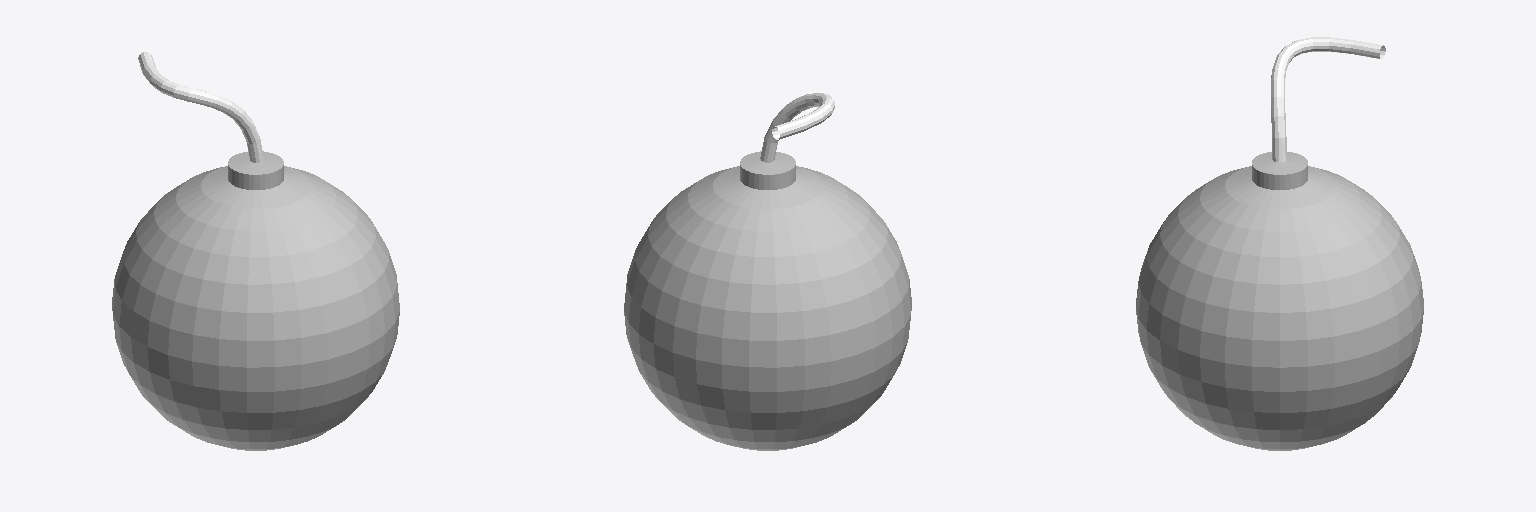
3 views of the same model, side by side, from view 1: azimuth 30°, elevation 25°; view 2: azimuth 150°, elevation 25°; view 3: azimuth 270°, elevation 25° (orthographic).
Parts seen in each view (by area): view 1: 球, ベジエカーブ; view 2: 球, ベジエカーブ; view 3: 球, ベジエカーブ.
Part boxes in pixels (bbox=[...]): 球: bbox=[112, 151, 399, 450]; ベジエカーブ: bbox=[138, 52, 263, 162]; 球: bbox=[624, 151, 911, 450]; ベジエカーブ: bbox=[760, 93, 834, 162]; 球: bbox=[1136, 152, 1423, 450]; ベジエカーブ: bbox=[1271, 37, 1385, 162].
Size of the model in its own units: 2 by 2.78 by 2.
Materials: 2 (1 with a texture image).